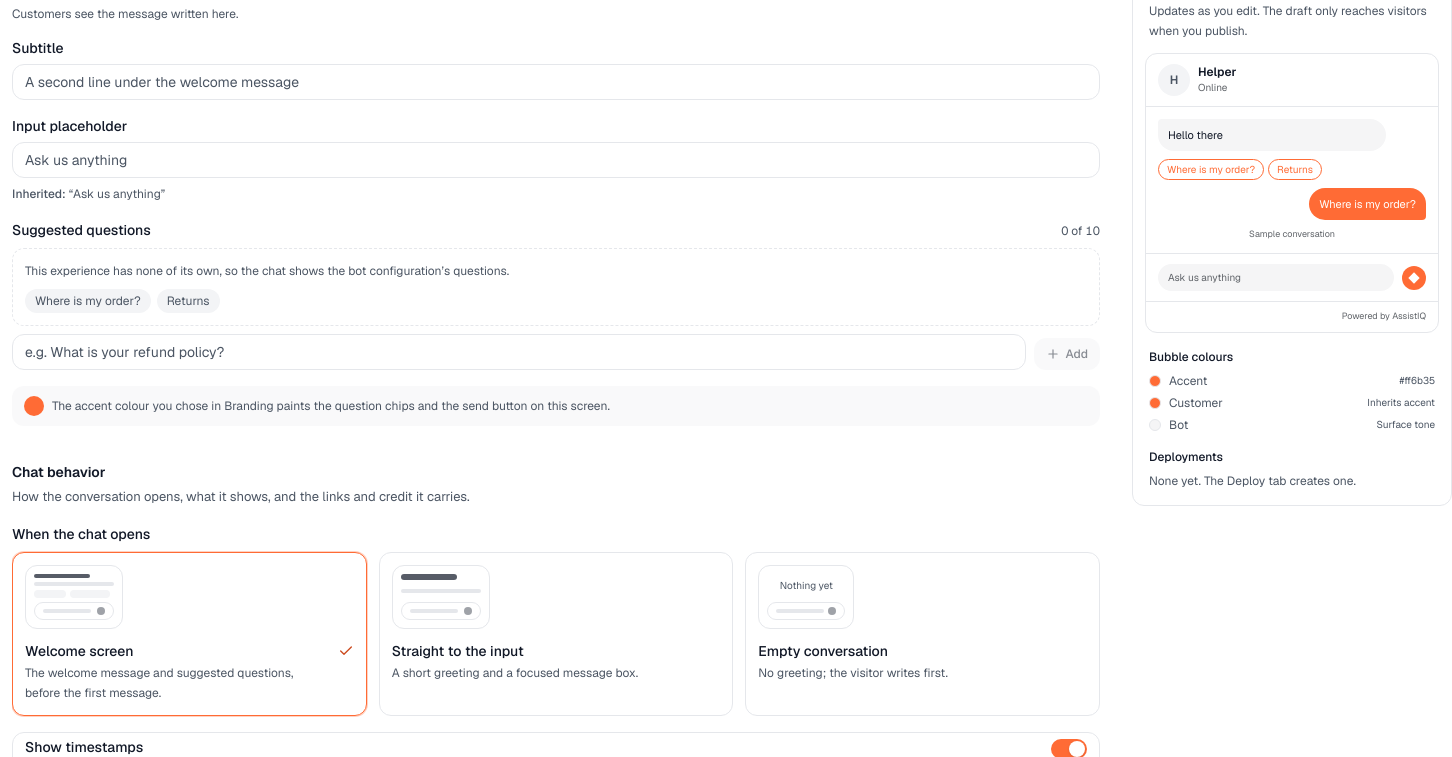
Test: Experience Design tab › adds a suggested question and refuses a duplicate
(page scrolled)
Type "Do you ship abroad?" into the field named "New suggested question". click: (519, 352)
box: [12,334,1026,370]
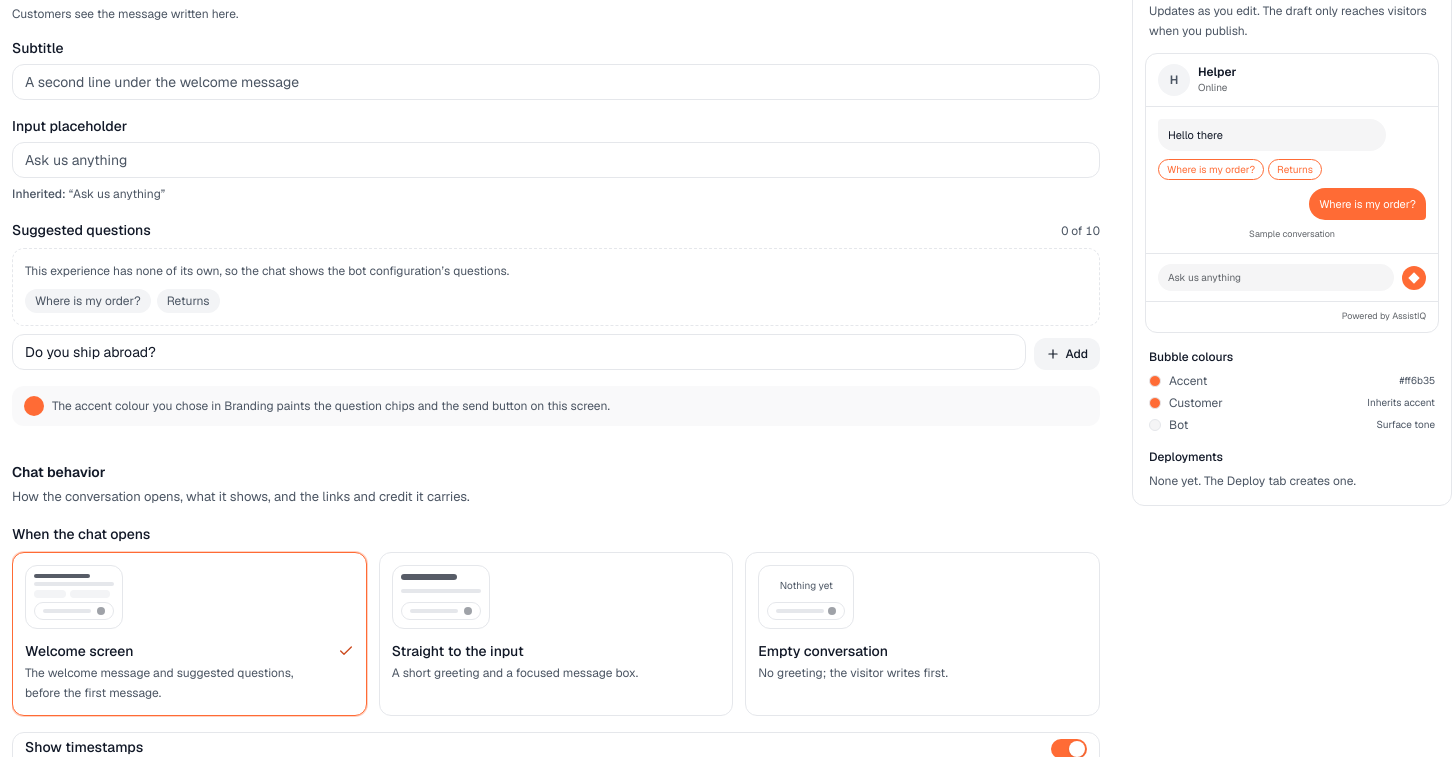
Click the button "Add". click: (1067, 354)
box: [1034,338,1100,370]
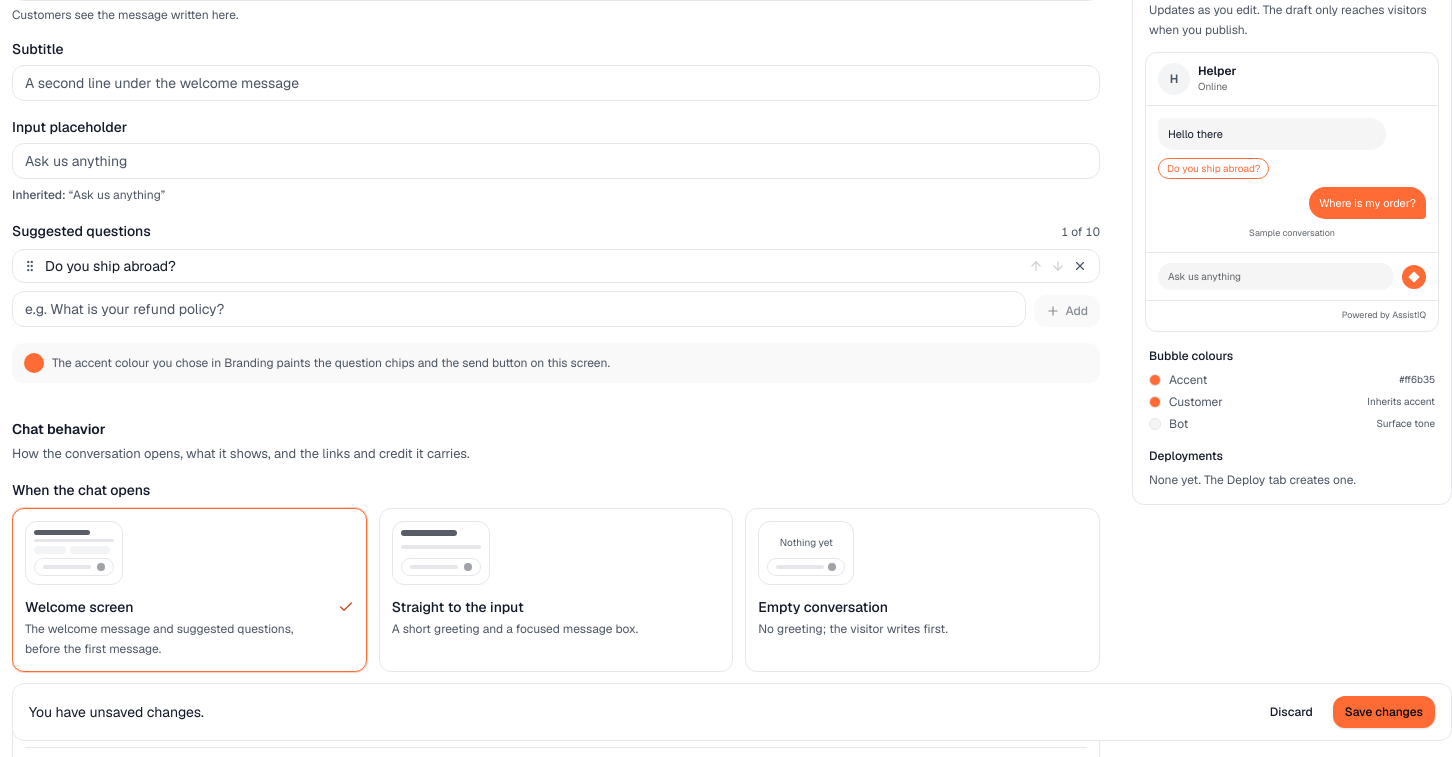
Expected: the text "Do you ship abroad?" below "Inherited:" is shown, [45,257,176,275]
Type "do you ship abroad?" into the field named "New suggested question". click: (519, 309)
box: [12,291,1026,327]
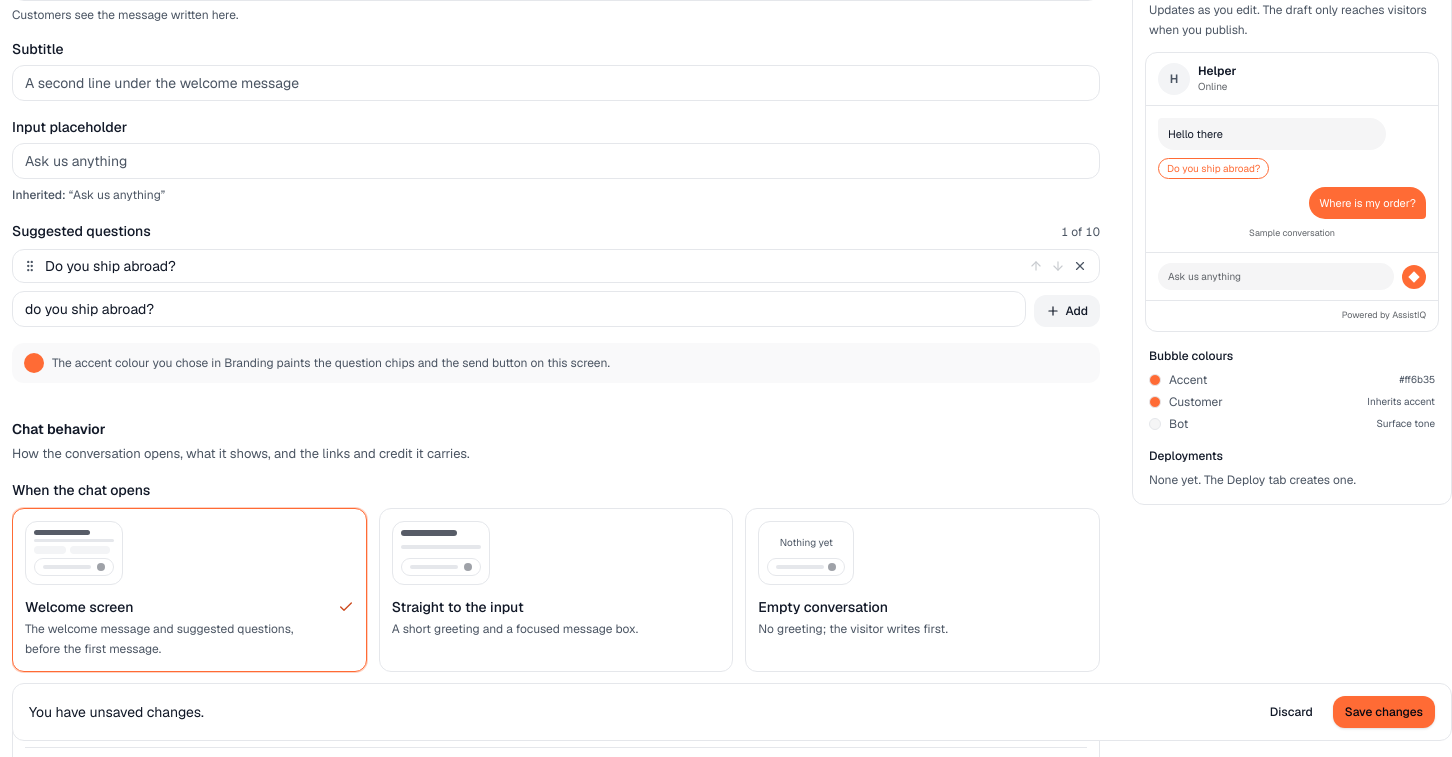
Click the button "Add". click: (1067, 311)
box: [1034,295,1100,327]
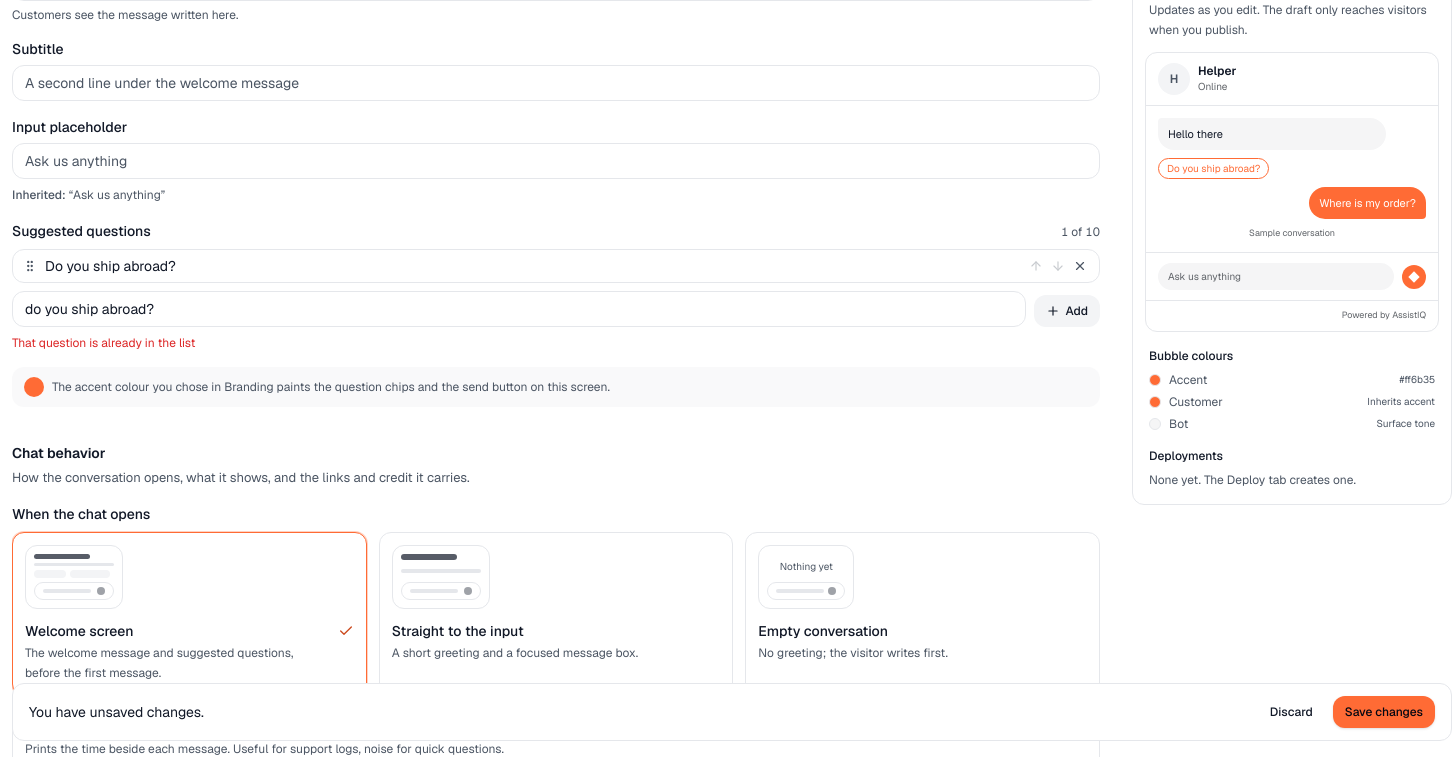
Expected: the text "That question is already in the list" is shown, [12,335,195,351]
